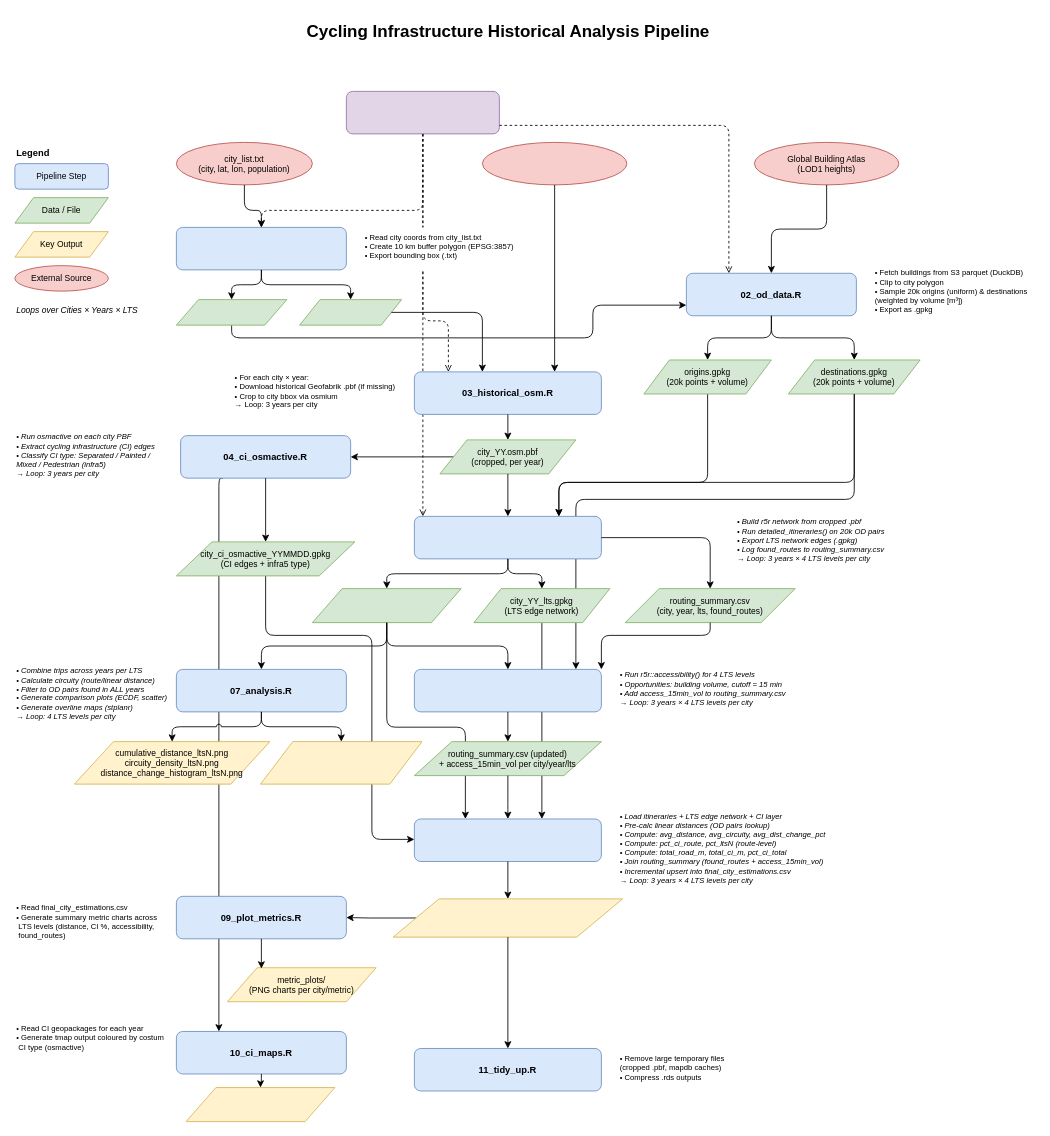
Image size: 1050x1136. Some labels were removed from this diagram. The shapes that lost their labels are listed below. From the top down, each one's centre as x and y in pixels, then its label:
the point at 422,112: config.R (cities, years, n_od_pairs)
the point at 554,163: Geofabrik OSM.pbf (Historical: 2016, 2021, 2026)
the point at 261,248: 01_city_buffers.R
the point at 231,312: city_10km.gpkg
the point at 350,312: city_bbox.txt
the point at 507,537: 05_r5r_routing.R
the point at 386,605: trips_city_YY_ltsN.rds (detailed itineraries, sf)
the point at 507,690: 06_accessibility.R
the point at 341,762: overline_map_ltsN.png routing_differences_ltsN.csv
the point at 507,839: 08_final_metrics.R
the point at 507,917: final_city_estimations.csv (per city)
the point at 260,1104: ci_map_YYMM.png (per city/year)
